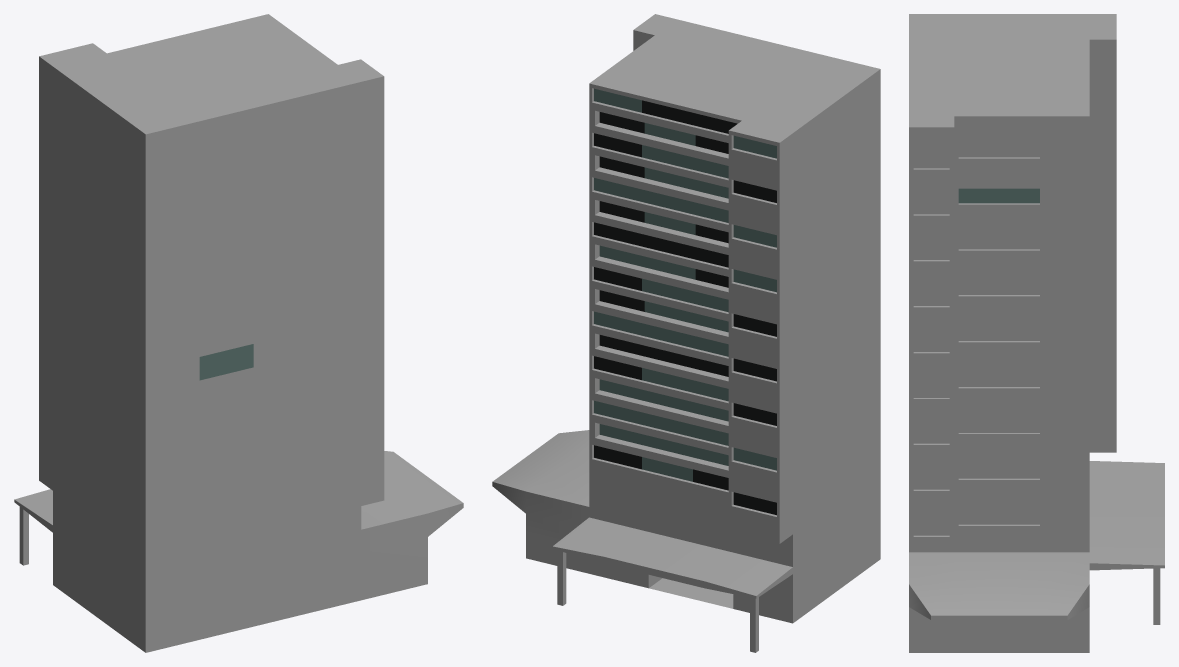
File: BuildingB.fbx
The picture shows the model from 3 angles, left to right: view 1: azimuth 30°, elevation 25°; view 2: azimuth 150°, elevation 25°; view 3: azimuth 270°, elevation 25°; orthographic projection. The views are drawn at different scales.
Parts seen in each view (by area): view 1: BuildingB; view 2: BuildingB; view 3: BuildingB.
Boxes of the visible parts, x1,y1,x2,y2 form: BuildingB: (14, 14, 463, 652); BuildingB: (492, 14, 880, 652); BuildingB: (909, 14, 1164, 652).
Bounding box in the file's own units: 34.82 × 52.93 × 24.08.
